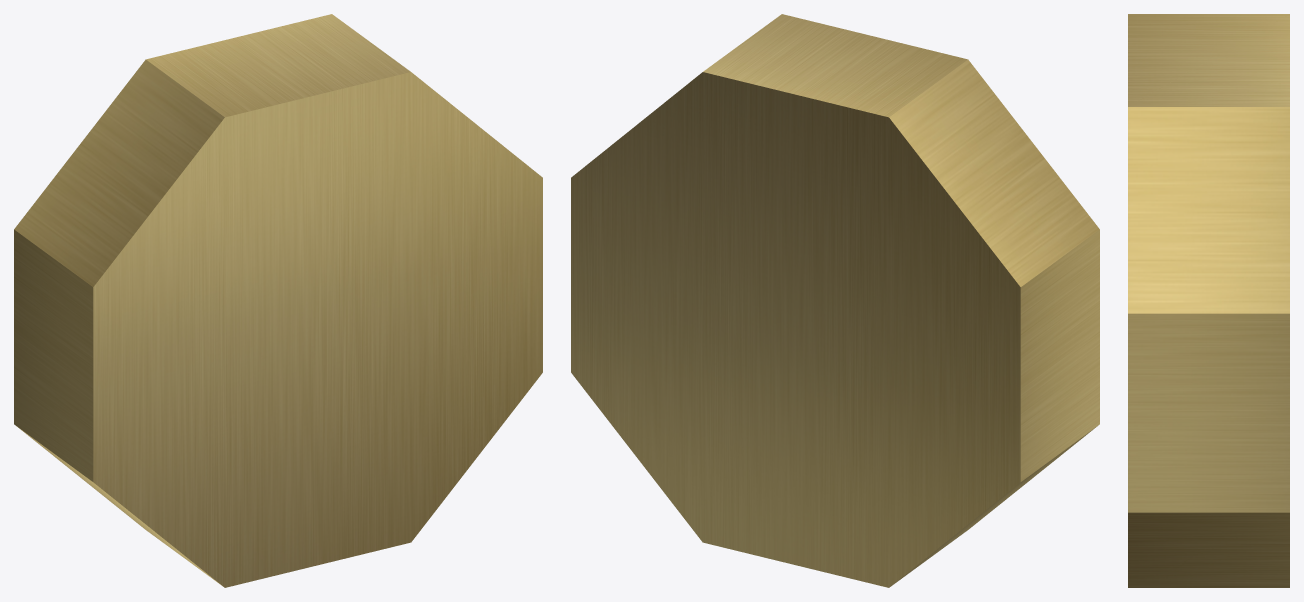
Rendered from coin.glb.
3 views of the same model, side by side, from view 1: azimuth 30°, elevation 25°; view 2: azimuth 150°, elevation 25°; view 3: azimuth 270°, elevation 25° (orthographic). The views are drawn at different scales.
Visible parts, largest first — view 1: Cube; view 2: Cube; view 3: Cube.
Boxes of the visible parts, <box> form: Cube: <box>14,14,542,587</box>; Cube: <box>571,14,1099,587</box>; Cube: <box>1128,14,1289,587</box>.
Bounding box in the file's own units: 0.5543 × 0.5543 × 0.1692.
1 material, 1 textured.
